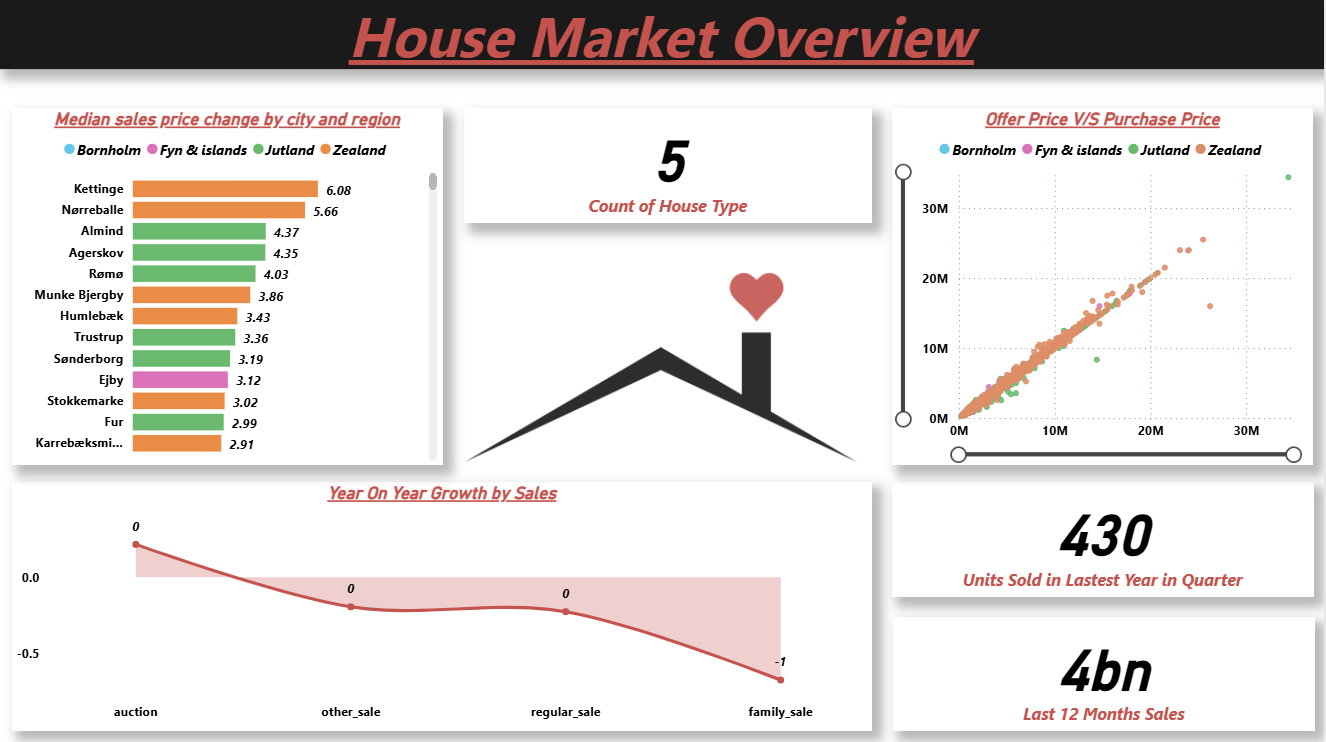

The page's visual inventory and layout, read from the dashboard file:
{"tool":"powerbi","page":{"name":"House Market Overview","canvas":[1280,720],"ordinal":0},"visuals":[{"type":"textbox","title":"House Market Overview","box":[0,0,1280.3,70],"z":0},{"type":"lineChart","title":"Year On Year Growth  by Sales","fields":{"Category":["Housing Data.sales_type"],"Y":["Measure's Table 1 (2).yoy sales growth"]},"box":[13.5,468.3,830.3,239.7],"z":1000},{"type":"scatterChart","title":"Offer Price V/S Purchase Price","fields":{"X":["Housing Data.offer price"],"Y":["Housing Data.purchase_price"],"Series":["Housing Data.region"]},"box":[862.6,107.4,406.6,345],"z":2000},{"type":"barChart","title":"Median sales price change by city and region","fields":{"Y":["Measure's Table 1 (2).median sales price change"],"Category":["Housing Data.city"],"Series":["Housing Data.region"]},"box":[13.5,107.6,415.8,344.8],"z":3000},{"type":"card","fields":{"Values":["Measure's Table 2.units sold in latest year && quarter"]},"box":[862.1,468.3,407.2,111.3],"z":4000},{"type":"card","fields":{"Values":["Measure's Table 1 (2).last 12 months sales"]},"box":[863.3,598,407.2,110.1],"z":5000},{"type":"card","fields":{"Values":["Measure's Table 1.count of house type"]},"box":[450,107.4,393.3,111],"z":6000}]}

Visuals, with their boxes in screenshot pixels (x1, y1, x2, y2), scaled from the page's 1280x720 canvas onto the 1326x742 screenshot:
"House Market Overview" textbox: {"x1": 0, "y1": 0, "x2": 1325, "y2": 72}
"Year On Year Growth  by Sales" lineChart: {"x1": 14, "y1": 483, "x2": 874, "y2": 730}
"Offer Price V/S Purchase Price" scatterChart: {"x1": 894, "y1": 111, "x2": 1315, "y2": 466}
"Median sales price change by city and region" barChart: {"x1": 14, "y1": 111, "x2": 445, "y2": 466}
card - Measure's Table 2.units sold in latest year && quarter: {"x1": 893, "y1": 483, "x2": 1315, "y2": 597}
card - Measure's Table 1 (2).last 12 months sales: {"x1": 894, "y1": 616, "x2": 1316, "y2": 730}
card - Measure's Table 1.count of house type: {"x1": 466, "y1": 111, "x2": 874, "y2": 225}
